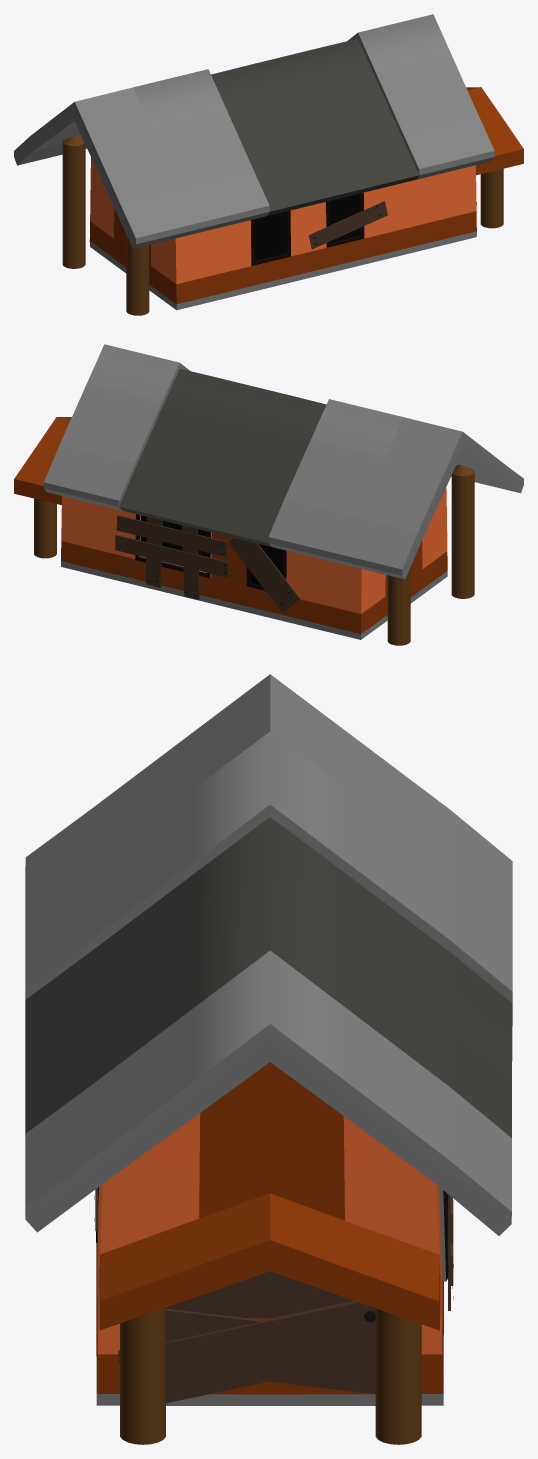
File: house1.fbx
3 views of the same model, one above another, from view 1: azimuth 30°, elevation 25°; view 2: azimuth 150°, elevation 25°; view 3: azimuth 270°, elevation 25° (orthographic). The views are drawn at different scales.
Visible parts, largest first — view 1: Box001, Cylinder023, house1, Box009; view 2: Box001, Cylinder023, Box004, Box008, Box005, house1, Box003, Box002; view 3: Box001, Box014, house1, Box012, Box013.
Boxes of the visible parts, <box> form: Box001: <box>14,14,523,310</box>; Cylinder023: <box>62,135,149,315</box>; house1: <box>480,168,503,228</box>; Box009: <box>309,201,387,249</box>; Box001: <box>14,344,523,639</box>; Cylinder023: <box>387,464,474,645</box>; Box004: <box>228,538,300,612</box>; Box008: <box>115,535,228,577</box>; Box005: <box>116,515,227,557</box>; house1: <box>34,498,56,558</box>; Box003: <box>182,525,199,599</box>; Box002: <box>145,517,162,587</box>; Box001: <box>25,674,512,1405</box>; Box014: <box>118,1300,375,1403</box>; house1: <box>120,1307,421,1444</box>; Box012: <box>166,1271,353,1317</box>; Box013: <box>118,1308,375,1394</box>.
Size of the model in its own units: 109 by 49.38 by 56.4.
